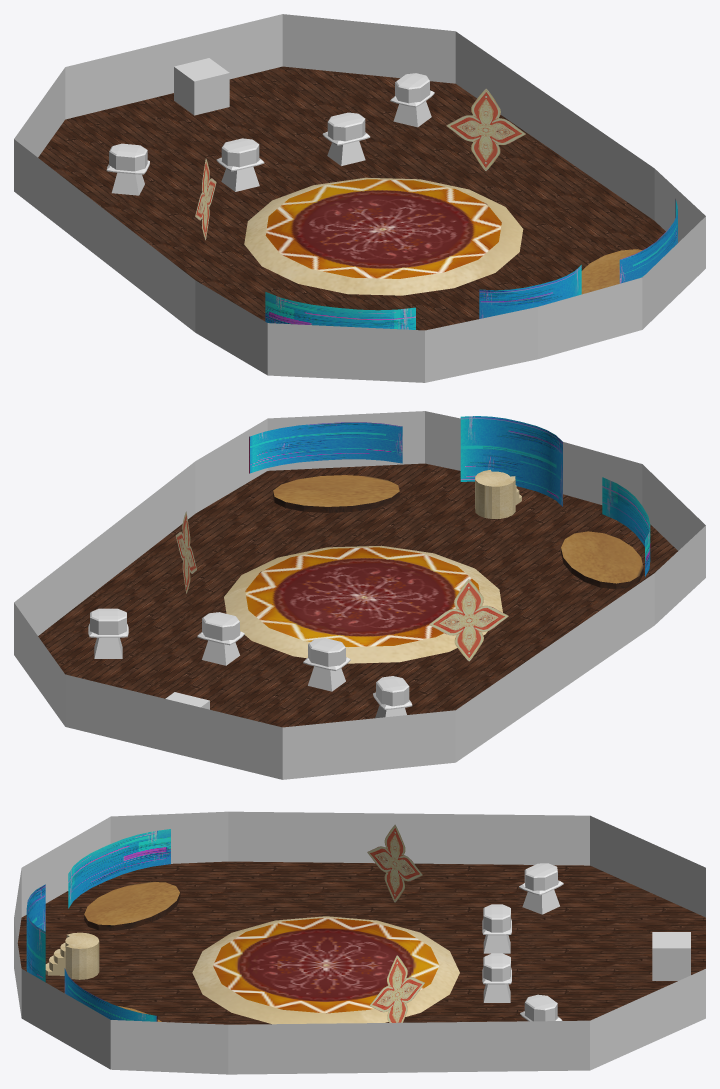
Rendered from Makyung_Scene_01.fbx.
The picture shows the model from 3 angles, top to bottom: view 1: azimuth 30°, elevation 25°; view 2: azimuth 150°, elevation 25°; view 3: azimuth 270°, elevation 25°; orthographic projection. The views are drawn at different scales.
Visible parts, largest first — view 1: InviWall, Envi Floor, Circle, Panel.001, Plane.002, Door, Plane, Plane.001, Panel, Glass2, Glass, Glass4 (+5 smaller); view 2: Envi Floor, InviWall, Circle, Panel, Plane, Plane.001, Panel.001, Plane.002, Glass, Glass2, Glass3, Body (+3 smaller); view 3: InviWall, Envi Floor, Circle, Panel, Plane.002, Panel.001, Door, Plane, Plane.001, Glass4, Body4, Glass3 (+4 smaller).
Part boxes in pixels (x1=…): InviWall: x1=14, y1=14, x2=705, y2=382; Envi Floor: x1=38, y1=66, x2=665, y2=330; Circle: x1=244, y1=177, x2=523, y2=295; Panel.001: x1=195, y1=88, x2=525, y2=240; Plane.002: x1=265, y1=292, x2=415, y2=329; Door: x1=174, y1=58, x2=229, y2=115; Plane: x1=479, y1=265, x2=581, y2=318; Plane.001: x1=619, y1=199, x2=677, y2=283; Panel: x1=581, y1=249, x2=642, y2=294; Glass2: x1=327, y1=112, x2=365, y2=141; Glass: x1=221, y1=138, x2=259, y2=167; Glass4: x1=109, y1=143, x2=147, y2=171; Envi Floor: x1=38, y1=463, x2=677, y2=727; InviWall: x1=14, y1=411, x2=705, y2=779; Circle: x1=224, y1=545, x2=502, y2=663; Panel: x1=273, y1=469, x2=643, y2=589; Plane: x1=460, y1=416, x2=562, y2=506; Plane.001: x1=249, y1=422, x2=402, y2=473; Panel.001: x1=175, y1=511, x2=508, y2=661; Plane.002: x1=602, y1=477, x2=650, y2=576; Glass: x1=308, y1=638, x2=345, y2=666; Glass2: x1=202, y1=612, x2=239, y2=640; Glass3: x1=90, y1=608, x2=126, y2=634; Body: x1=303, y1=657, x2=350, y2=691; InviWall: x1=14, y1=811, x2=705, y2=1074; Envi Floor: x1=17, y1=861, x2=705, y2=1024; Circle: x1=192, y1=916, x2=459, y2=1024; Panel: x1=45, y1=882, x2=180, y2=1021; Plane.002: x1=68, y1=829, x2=170, y2=908; Panel.001: x1=367, y1=824, x2=424, y2=1022; Door: x1=652, y1=932, x2=690, y2=980; Plane: x1=26, y1=884, x2=45, y2=982; Plane.001: x1=64, y1=968, x2=157, y2=1021; Glass4: x1=524, y1=863, x2=557, y2=890; Body4: x1=519, y1=880, x2=563, y2=914; Glass3: x1=524, y1=994, x2=557, y2=1021.
Size of the model in its own units: 2593 by 548 by 3560.
